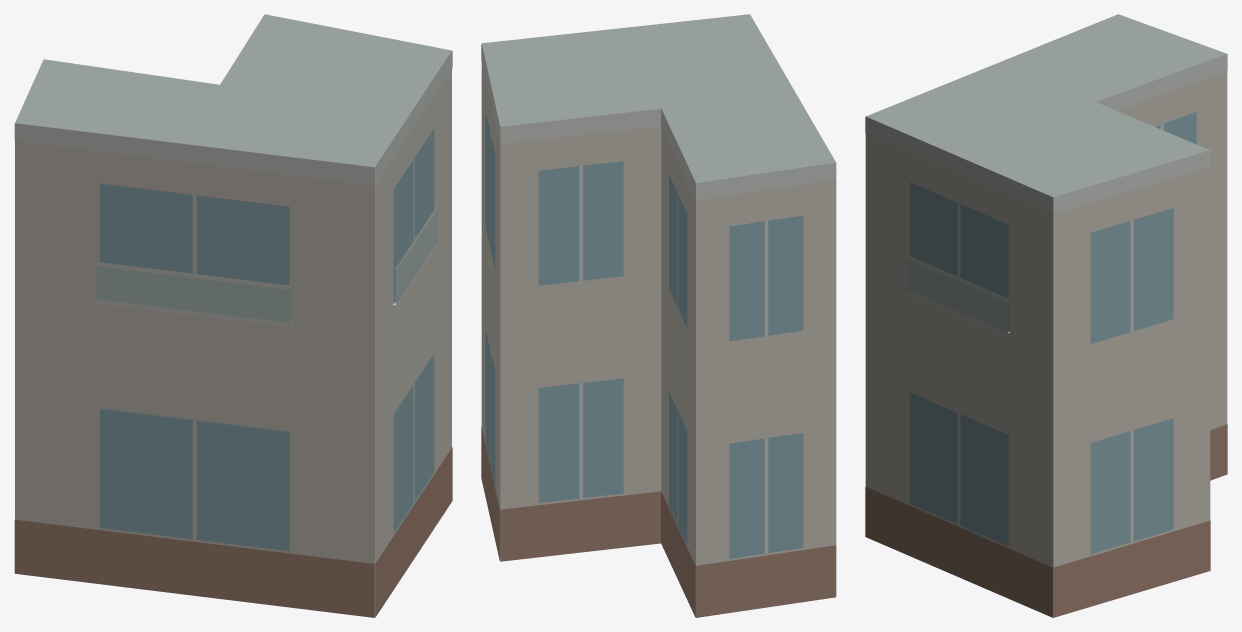
The model's file is survey-upis-32604202.glb.
3 renders of one model, left to right at view 1: azimuth 30°, elevation 25°; view 2: azimuth 150°, elevation 25°; view 3: azimuth 270°, elevation 25°, orthographic. The views are drawn at different scales.
Parts seen in each view (by area): view 1: survey-upis-32604202.tmp; view 2: survey-upis-32604202.tmp; view 3: survey-upis-32604202.tmp.
Boxes of the visible parts, <box> form: survey-upis-32604202.tmp: <box>14,14,452,617</box>; survey-upis-32604202.tmp: <box>481,14,836,617</box>; survey-upis-32604202.tmp: <box>865,14,1227,617</box>.
Bounding box in the file's own units: 5.71 × 6.1 × 4.76.
